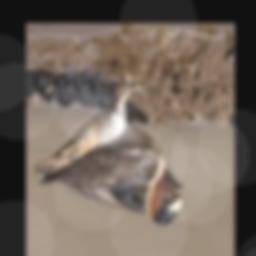Swallow: (35, 86, 185, 226)
